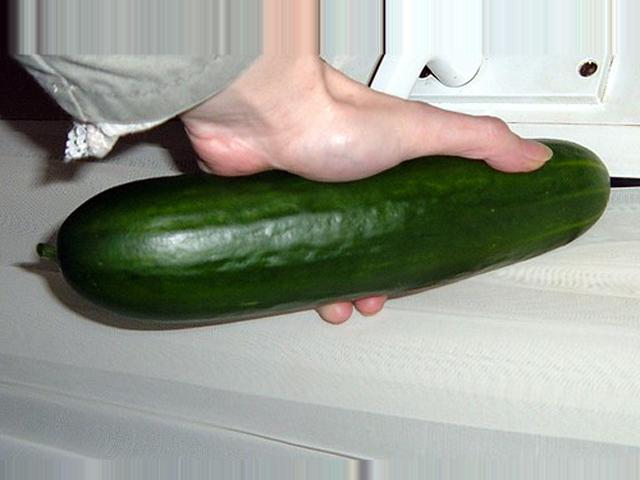cucumber: (35, 140, 609, 329)
